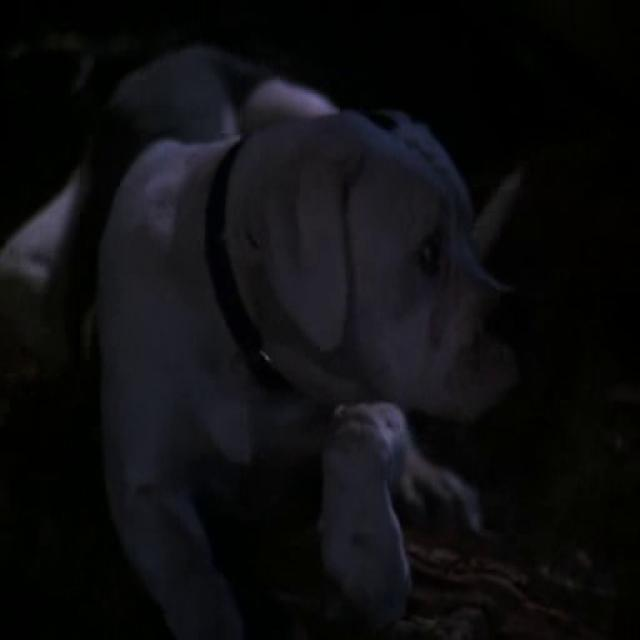dog: (72, 49, 580, 631)
